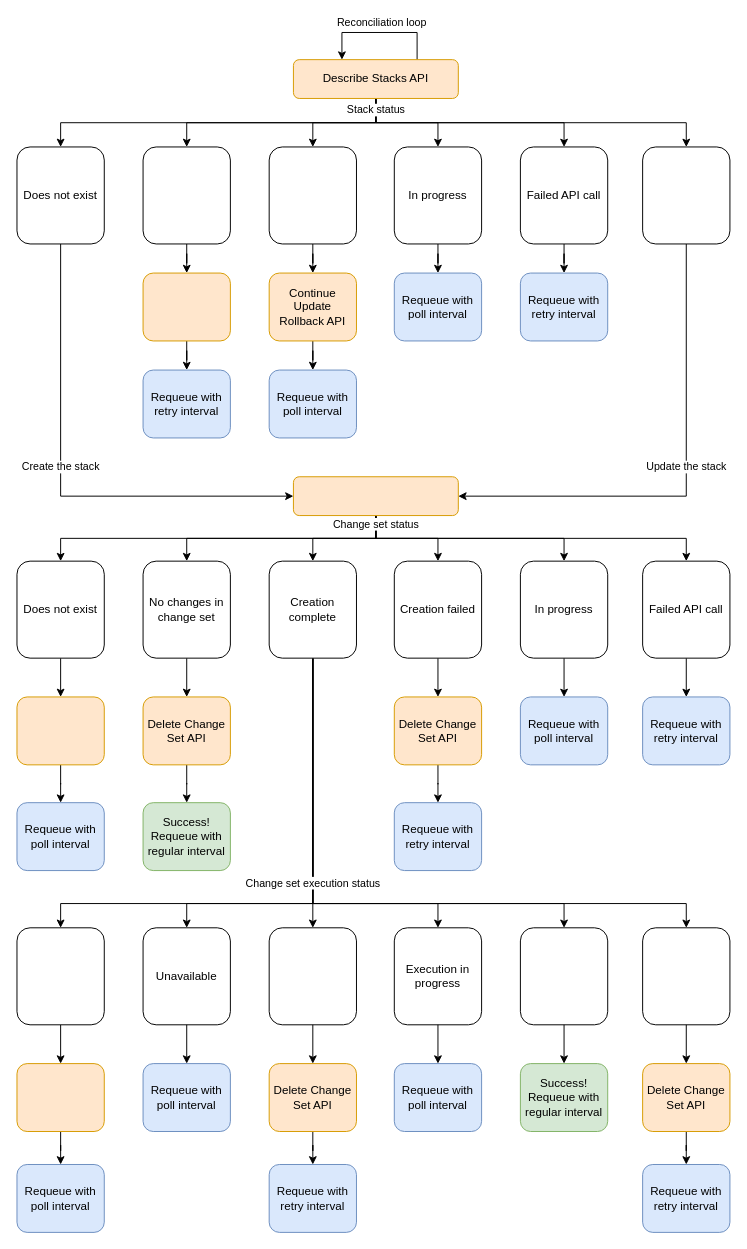
Some shapes in this 747 by 1249 pixel diagram are drawn without their labels. Each missing label, with the centre of its shape:
Available: the point at 60,976
Create Change Set API: the point at 60,730
Delete Stack API: the point at 186,306
Describe Change Set API: the point at 375,496
Execute Change Set API: the point at 60,1097
Execution complete: the point at 563,976
Execution failed: the point at 686,976
Failed create or delete: the point at 186,195
Failed with successful rollback OR completed successfully: the point at 686,195
Obsolete: the point at 312,976
Update rollback failed: the point at 312,195
